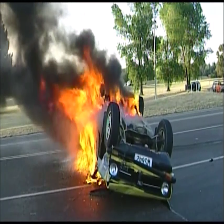fire_h: (40, 47, 106, 176), (122, 91, 142, 116)
fire_l: (86, 171, 102, 185), (109, 86, 121, 104)
